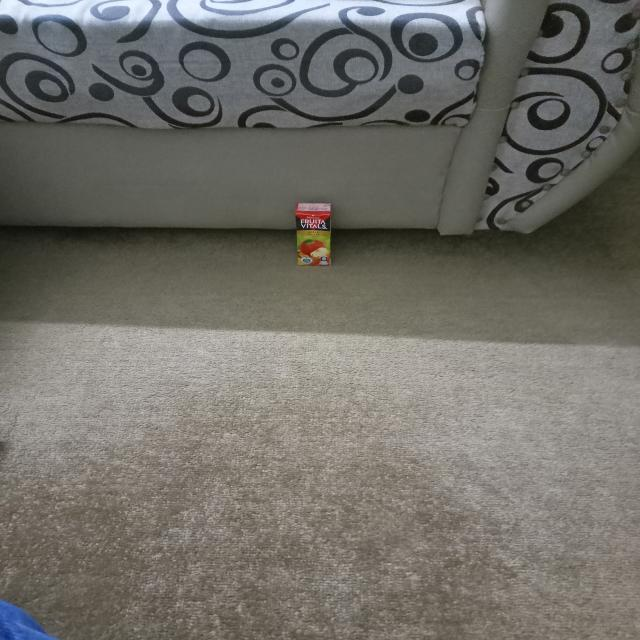Plastic: (289, 198, 336, 270)
